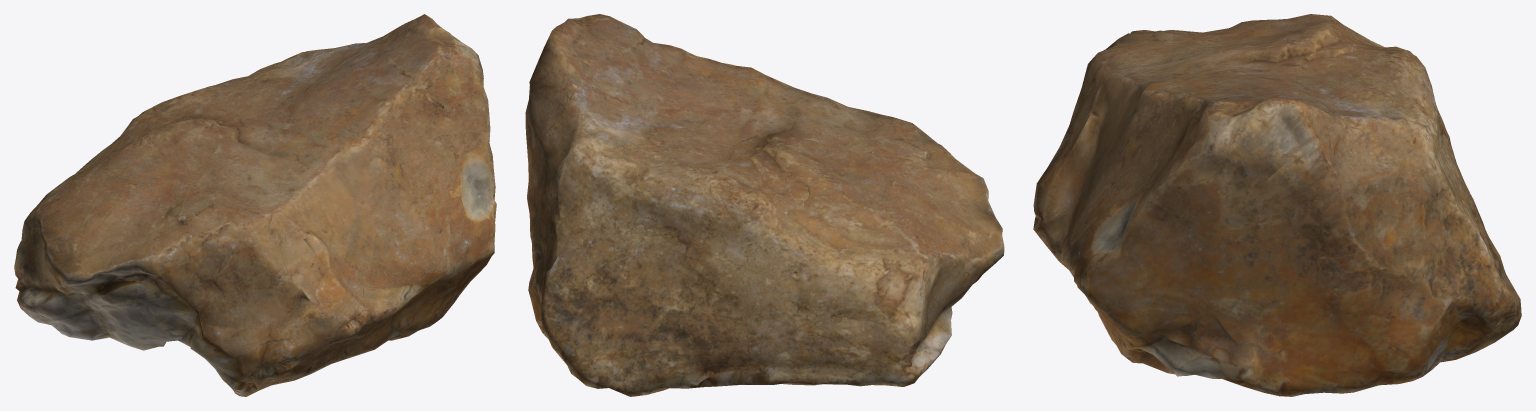
File: red_rock_photo-scan_gameready.glb
3 views of the same model, side by side, from view 1: azimuth 30°, elevation 25°; view 2: azimuth 150°, elevation 25°; view 3: azimuth 270°, elevation 25° (orthographic). The views are drawn at different scales.
Visible parts, largest first — view 1: Object_2; view 2: Object_2; view 3: Object_2.
Boxes of the visible parts, x1=… form: Object_2: x1=14, y1=14, x2=496, y2=396; Object_2: x1=525, y1=14, x2=1004, y2=396; Object_2: x1=1033, y1=14, x2=1521, y2=396.
Size of the model in its own units: 0.8025 by 0.5084 by 0.6705.
Materials: 1 (1 with a texture image).
